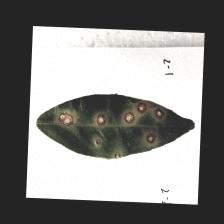canker: (44, 100, 170, 155)
